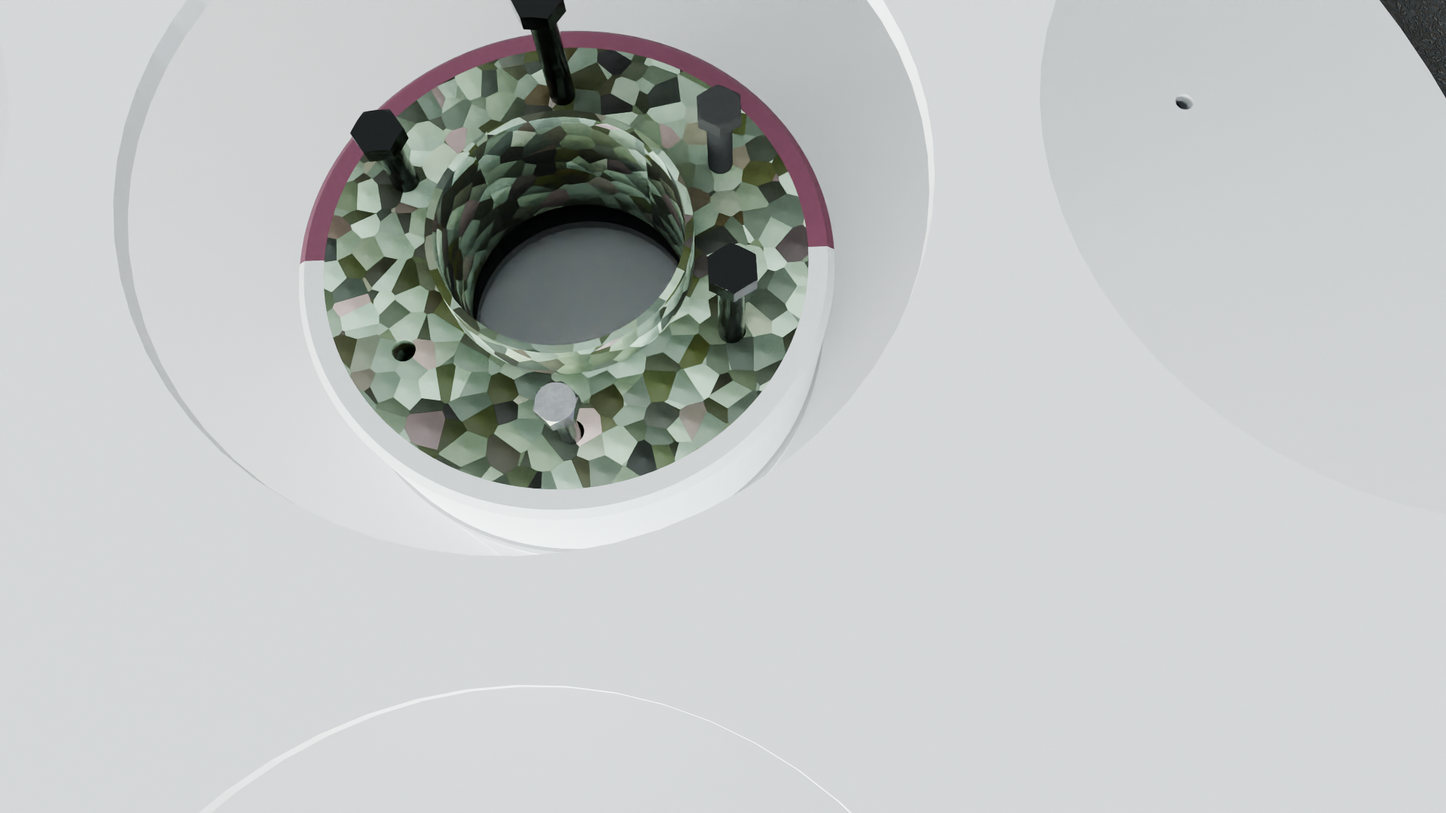bolt: (707, 242, 758, 294), (350, 109, 404, 152), (533, 381, 579, 426), (697, 84, 741, 128), (511, 0, 563, 19)
